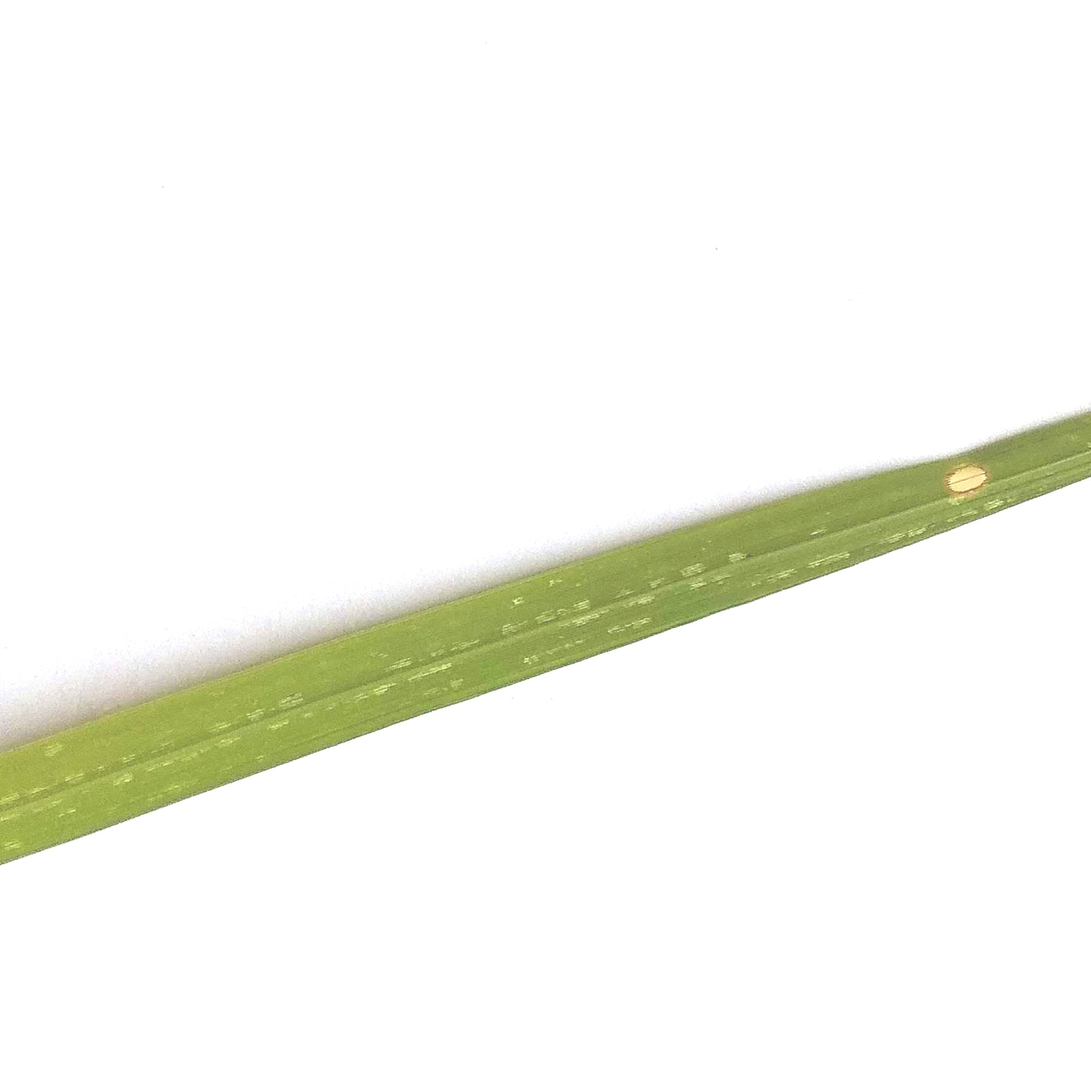Brown_Spot: (936, 447, 1008, 499)
